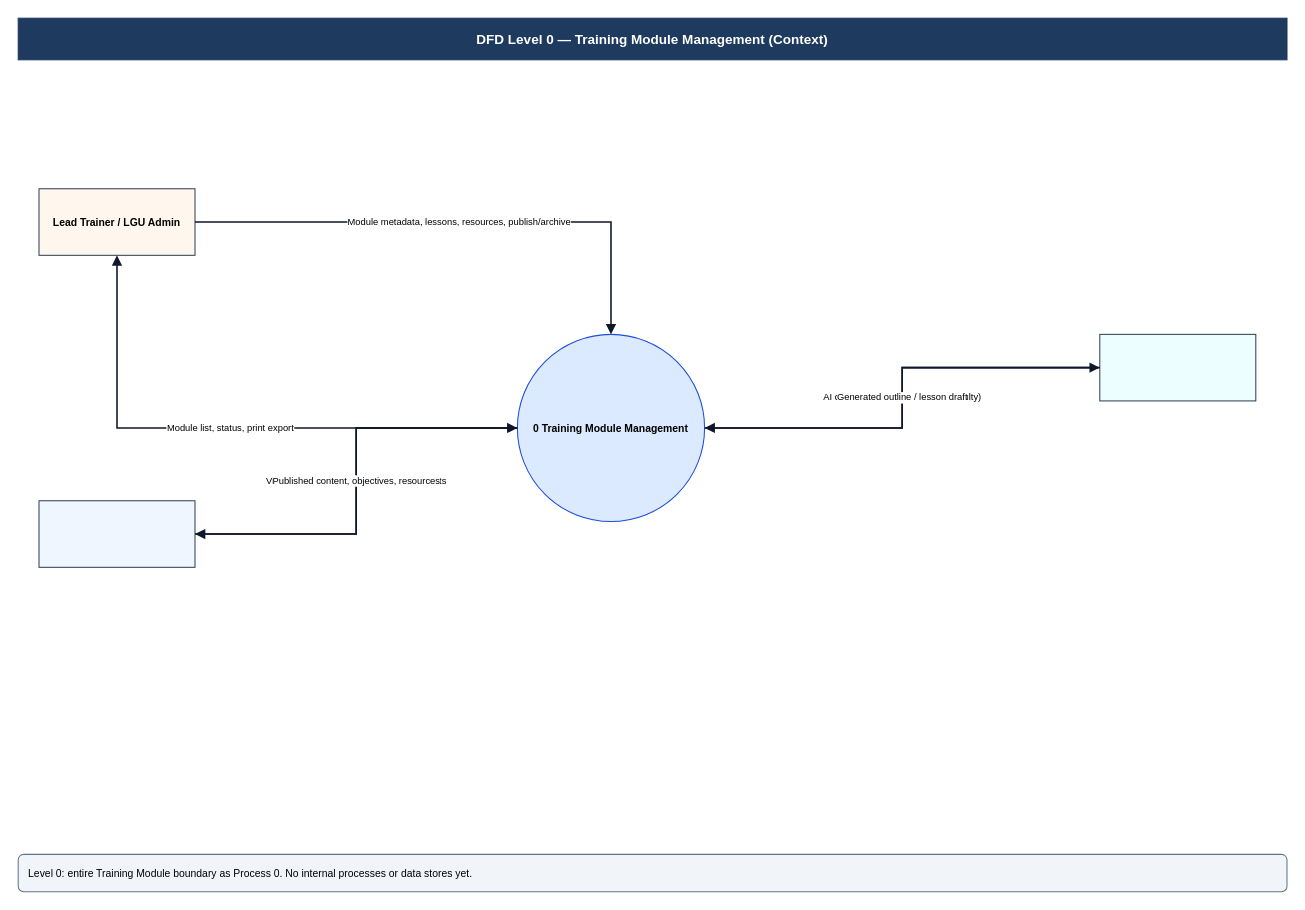
The diagram is 1305 pixels wide and 910 high, and some of its shapes have lost their labels. The shapes that lost their labels are listed below. From the top down, each one's box as (x1, y1, x2, y2) in pixels, then its label:
(1099, 333, 1256, 401): Google Gemini API
(38, 500, 195, 567): Participant
